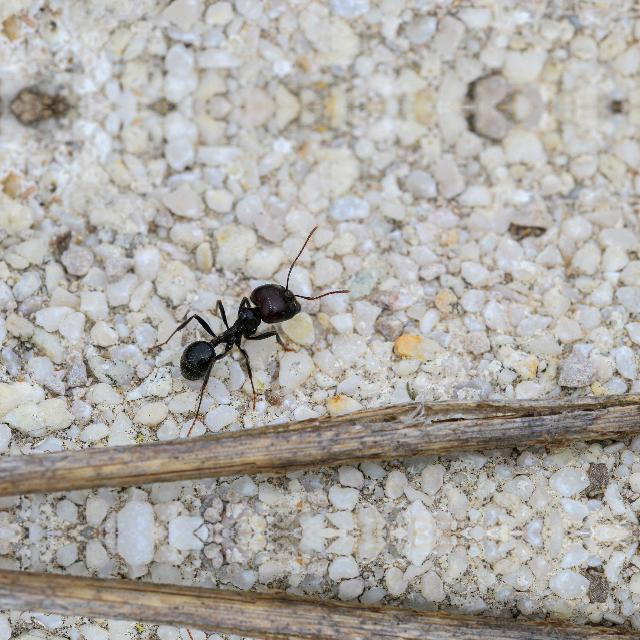Messor: (168, 266, 306, 396)
